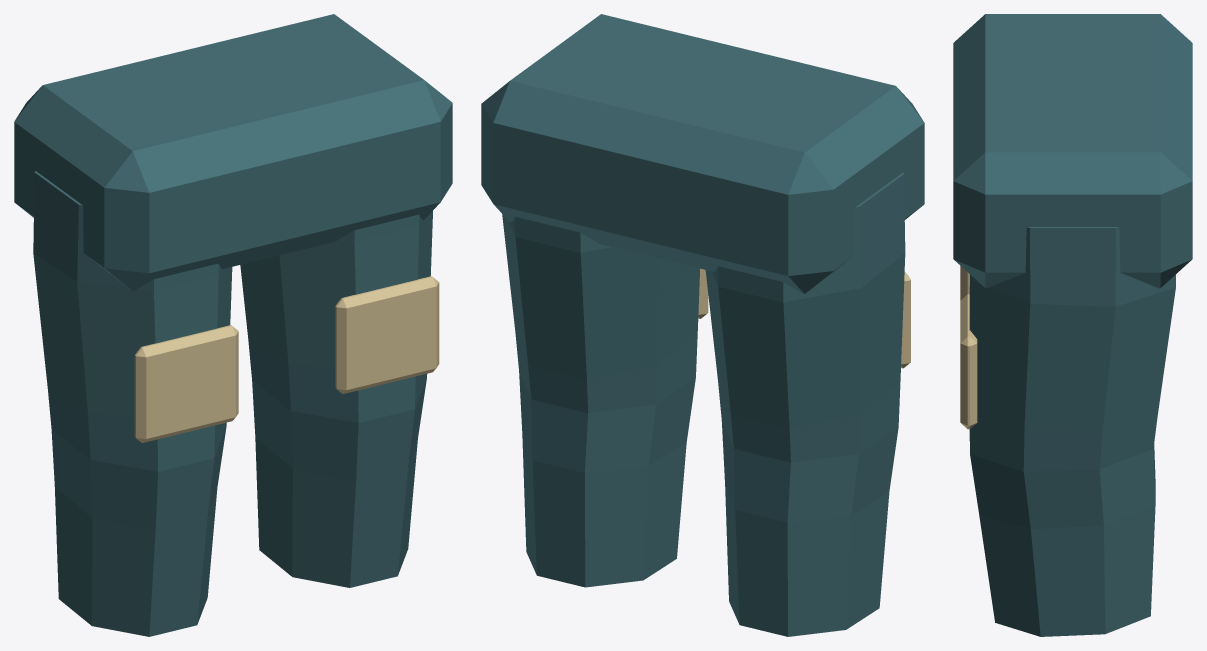
File: SM_NPC_Legs_02_Patched.glb
The picture shows the model from 3 angles, left to right: view 1: azimuth 30°, elevation 25°; view 2: azimuth 150°, elevation 25°; view 3: azimuth 270°, elevation 25°; orthographic projection. The views are drawn at different scales.
Visible parts, largest first — view 1: SM_NPC_Legs_02_Patched; view 2: SM_NPC_Legs_02_Patched; view 3: SM_NPC_Legs_02_Patched.
Boxes of the visible parts, x1=… form: SM_NPC_Legs_02_Patched: x1=14, y1=14, x2=452, y2=636; SM_NPC_Legs_02_Patched: x1=481, y1=14, x2=924, y2=636; SM_NPC_Legs_02_Patched: x1=953, y1=14, x2=1192, y2=636.
Size of the model in its own units: 0.4266 by 0.5658 by 0.255.
